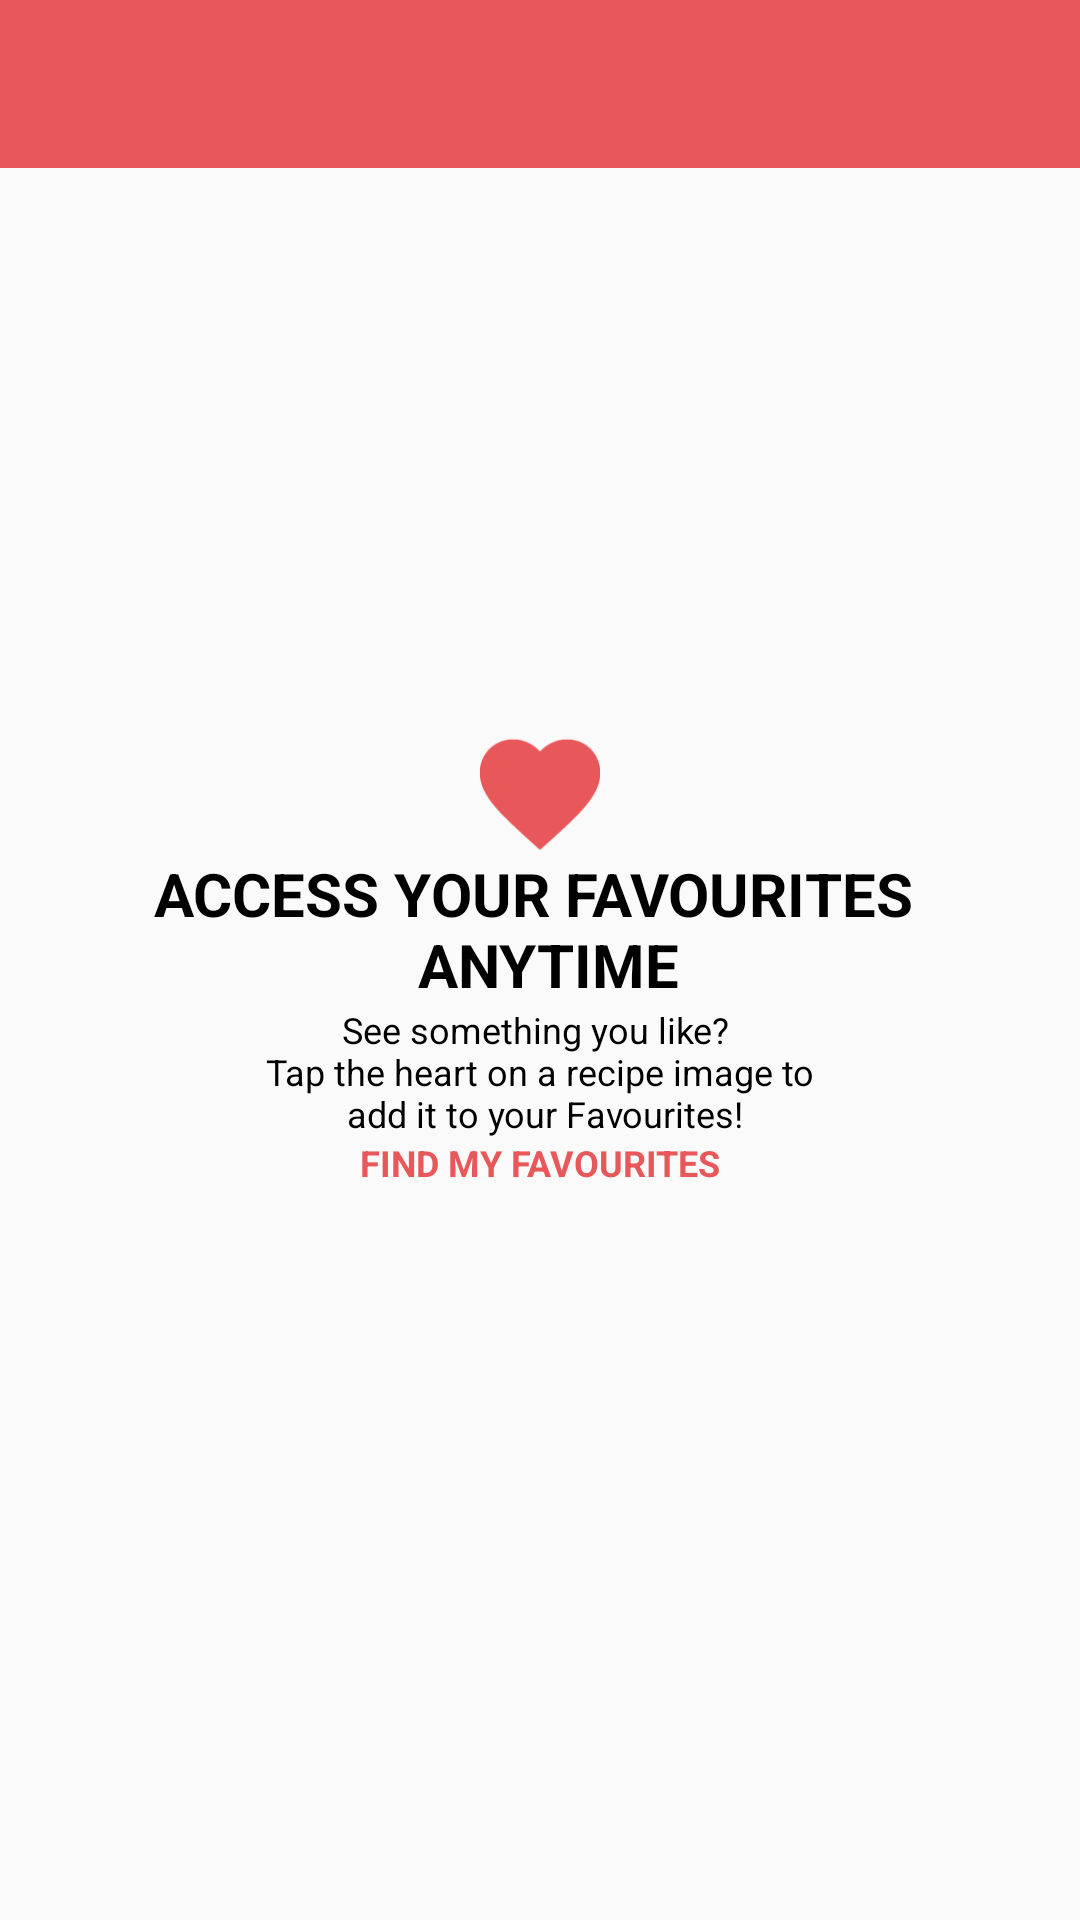

Icons on this 1080w x 1920h Android screen, each with its box as (x1, y1, x2, y2):
heart: (480, 739, 600, 850)
